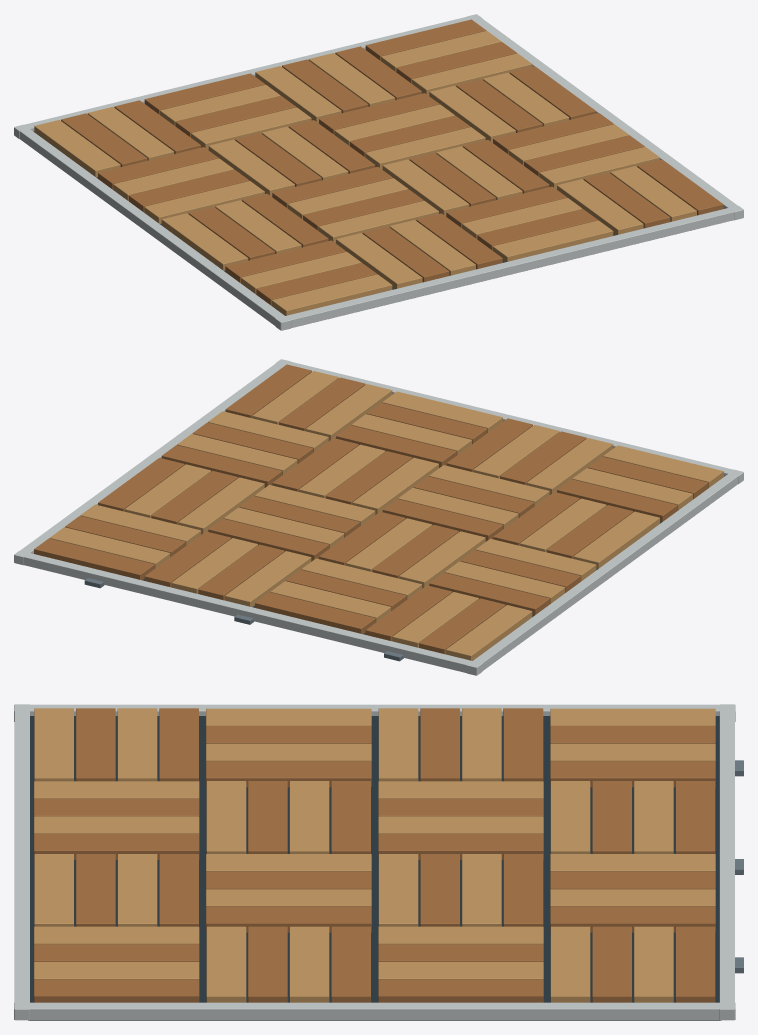
Rendered from b20_interlocking_portable_dance_floor.glb.
3 renders of one model, top to bottom at view 1: azimuth 30°, elevation 25°; view 2: azimuth 150°, elevation 25°; view 3: azimuth 270°, elevation 25°, orthographic. The views are drawn at different scales.
Visible parts, largest first — view 1: b20_interlocking_portable_dance_floor; view 2: b20_interlocking_portable_dance_floor; view 3: b20_interlocking_portable_dance_floor.
Part boxes in pixels (box(x1,y1,x2,y2)): b20_interlocking_portable_dance_floor: box(14, 14, 743, 330); b20_interlocking_portable_dance_floor: box(14, 359, 743, 675); b20_interlocking_portable_dance_floor: box(14, 704, 743, 1020).
Size of the model in its own units: 2.6 by 0.087 by 2.63.
